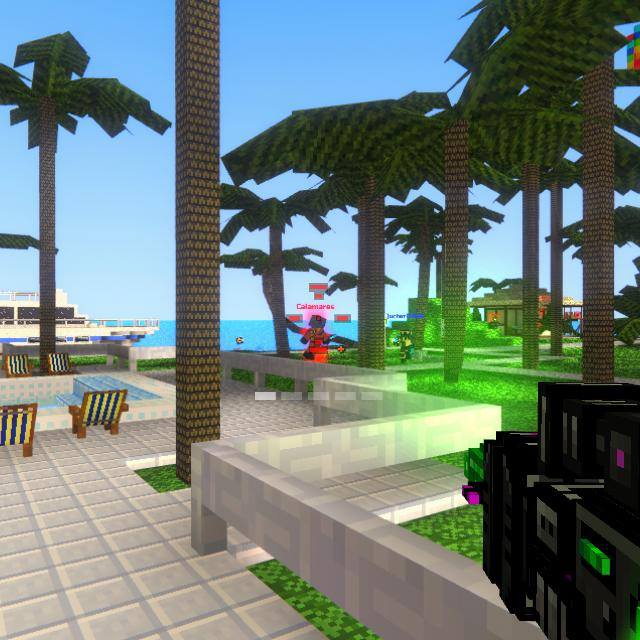Enemy: (301, 314, 330, 361)
